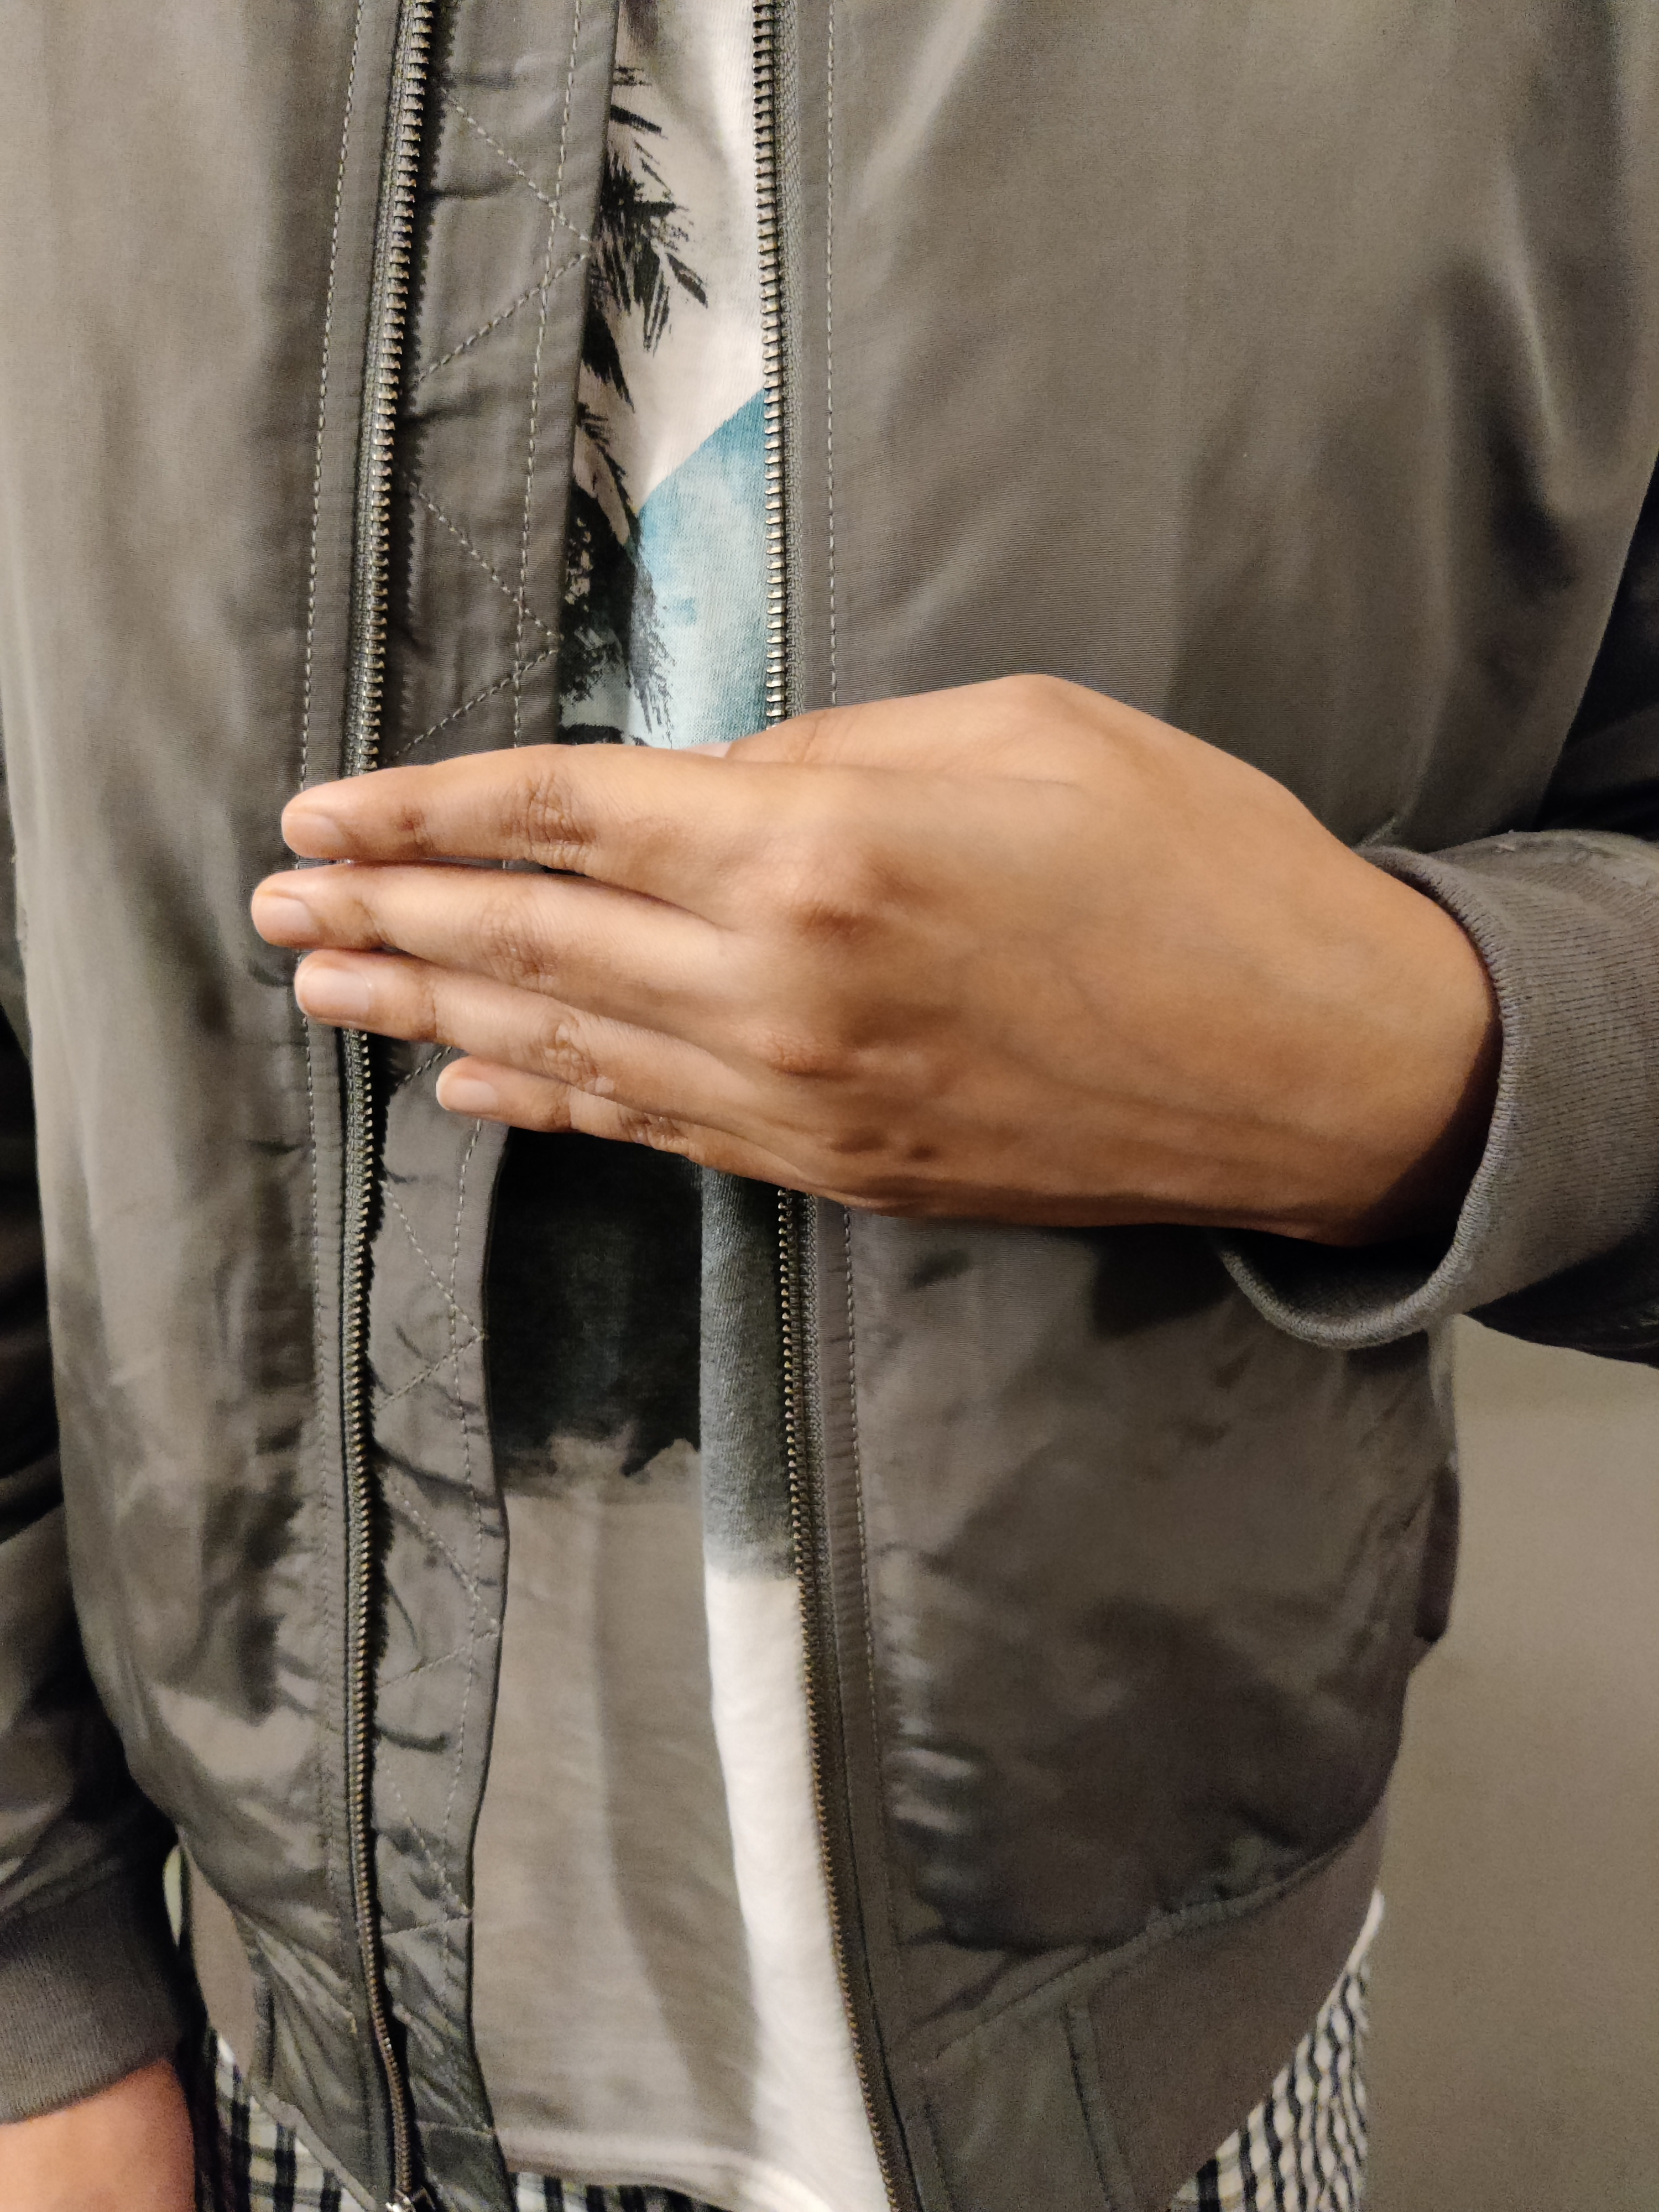right: (64, 505, 1598, 1489)
